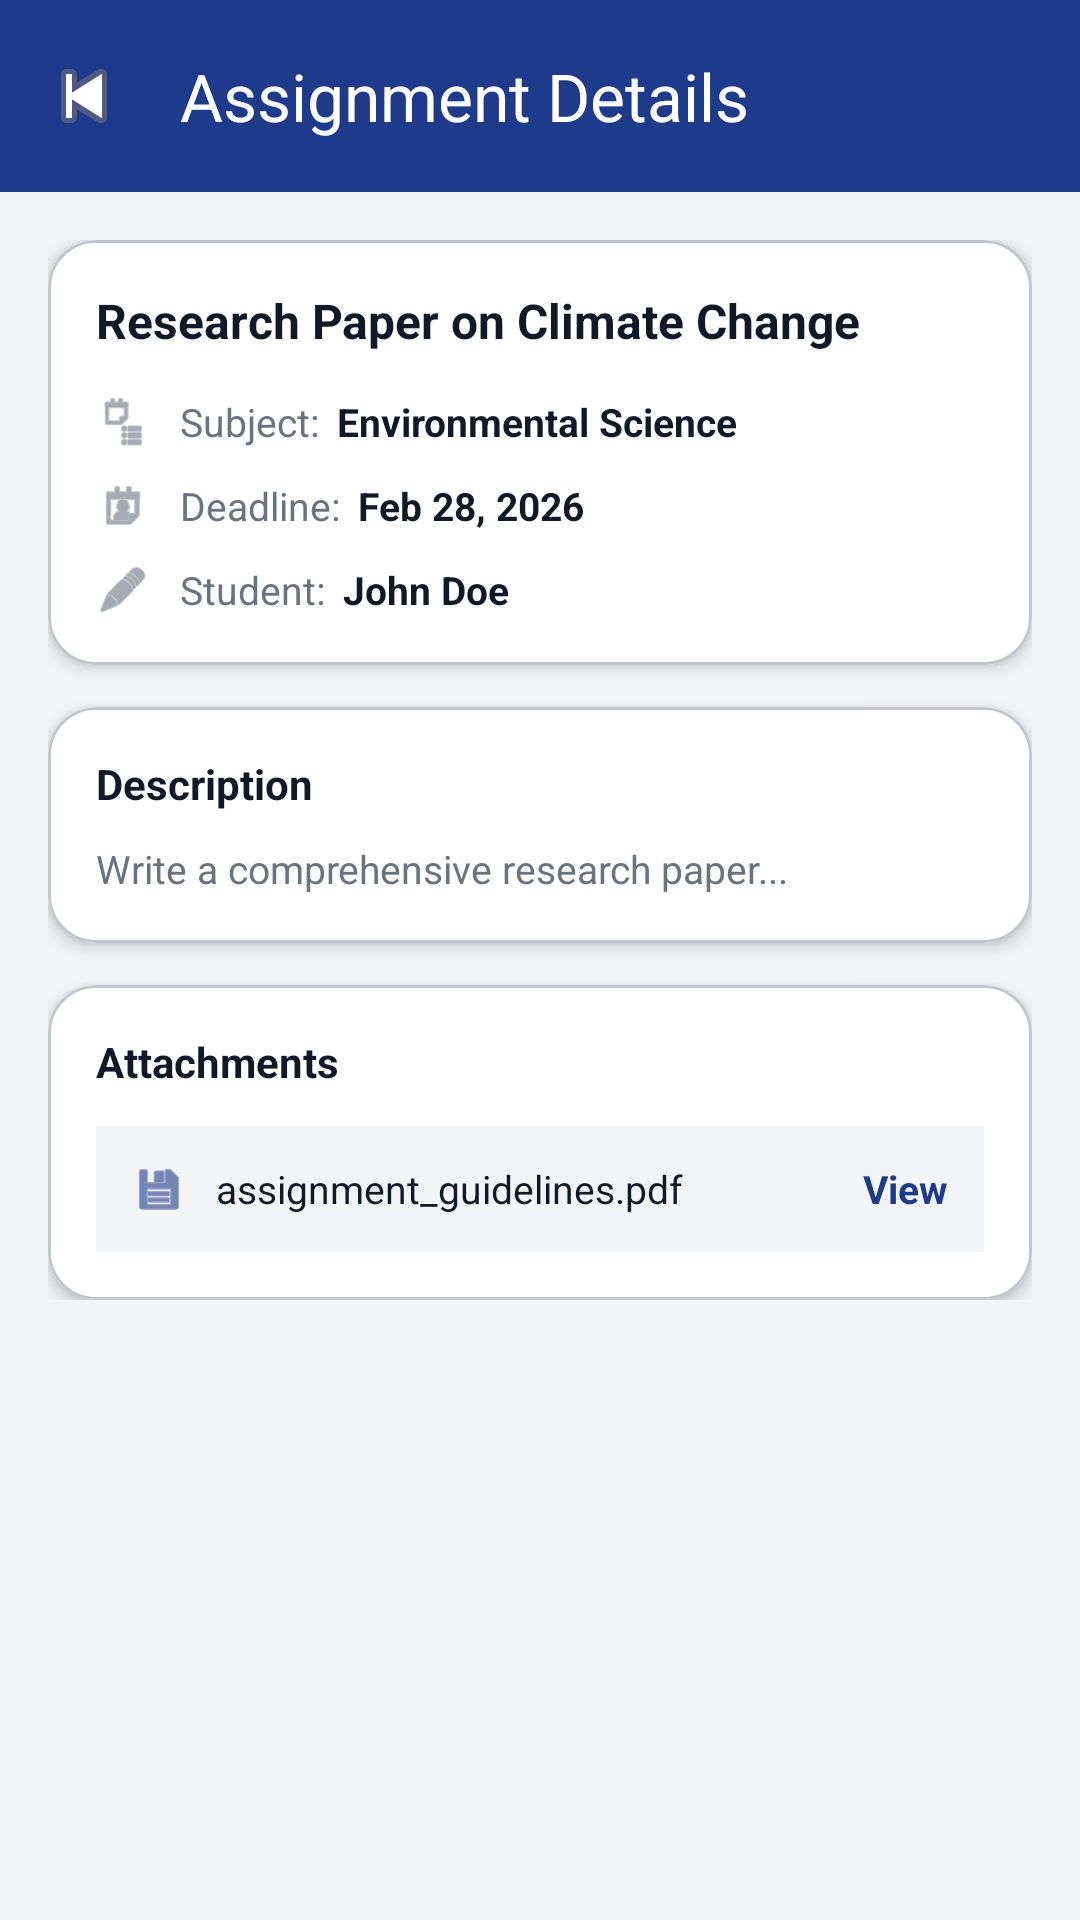

Where icons sit on this 1080×1920 app screen, as rect(x1, y1, x2, y2):
agenda: rect(104, 398, 142, 446)
calendar: rect(106, 486, 140, 525)
edit: rect(100, 567, 146, 612)
save: rect(139, 1169, 179, 1210)
